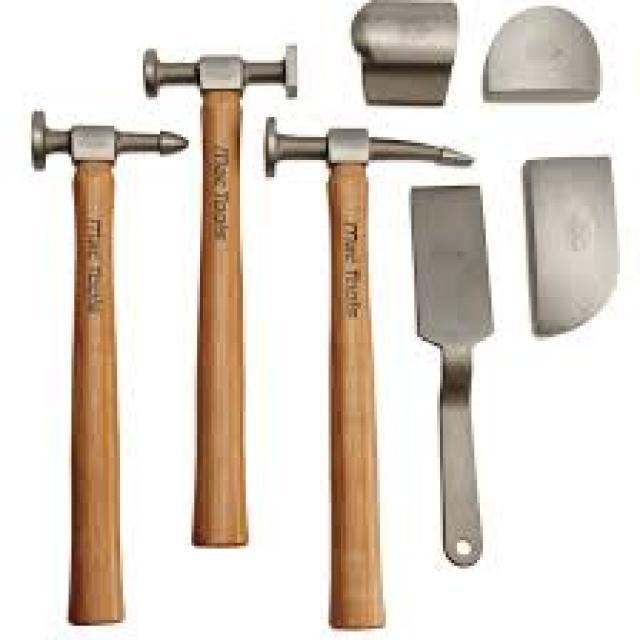hammer: (256, 108, 477, 636), (137, 34, 309, 563), (18, 88, 184, 634)
